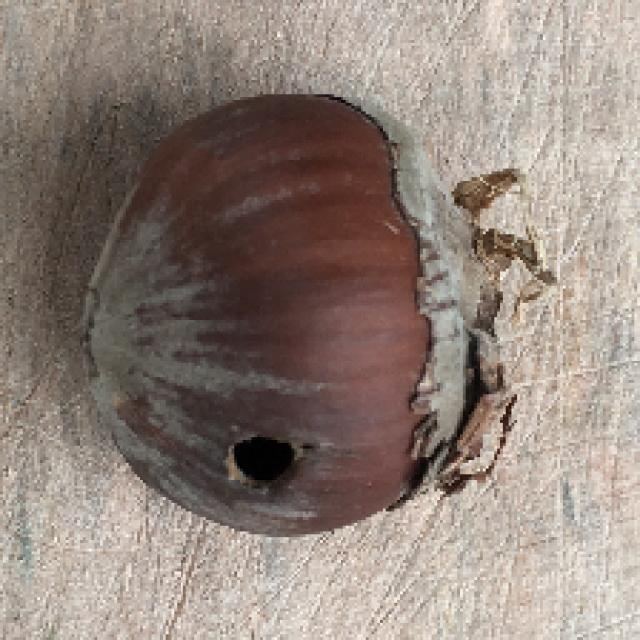DamagedHazelnut: (74, 92, 549, 537)
